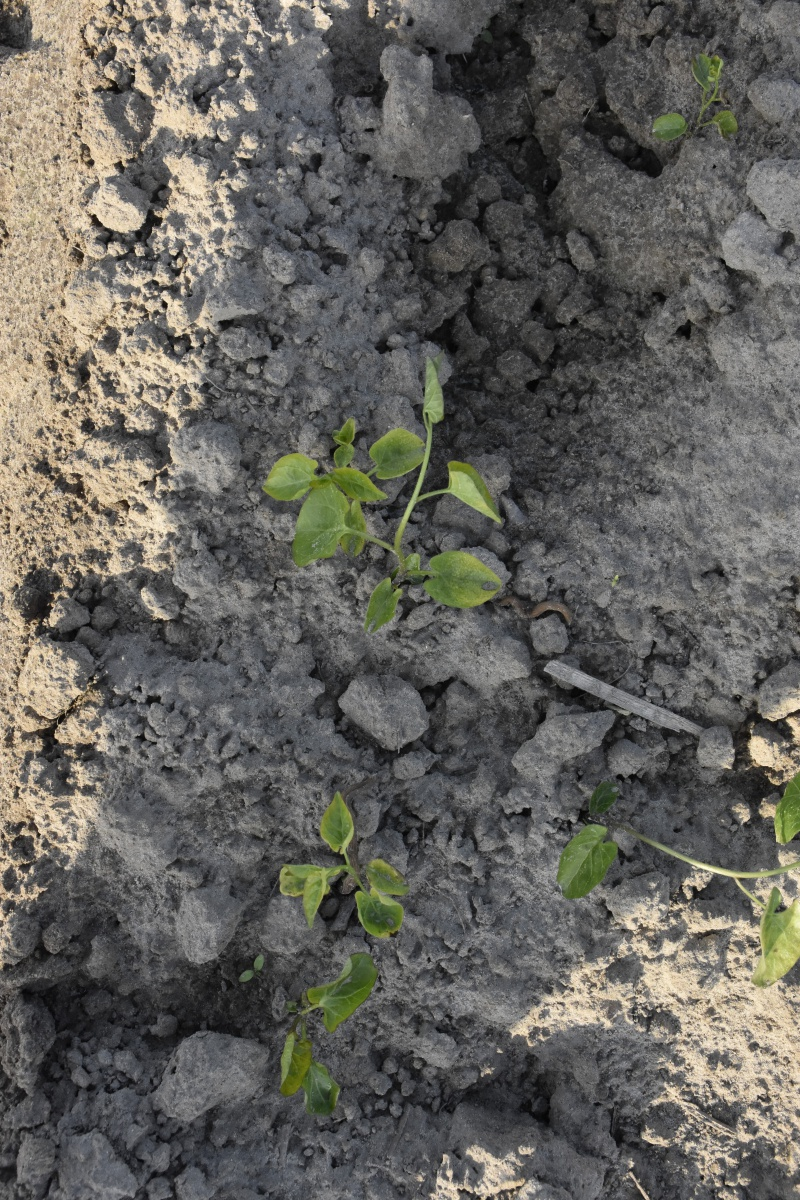field bindweed: (276, 356, 494, 620), (557, 771, 800, 991), (273, 803, 416, 941), (273, 956, 394, 1115), (652, 54, 740, 146)
